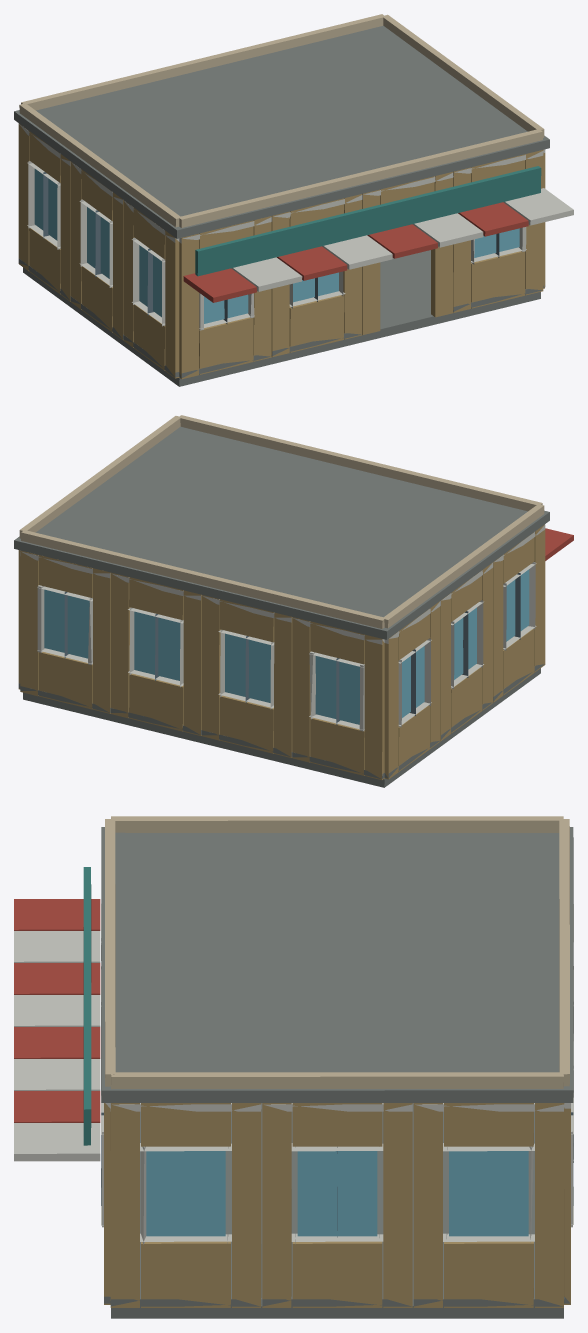
Rendered from architecture-shop.lod2.glb.
3 views of the same model, one above another, from view 1: azimuth 30°, elevation 25°; view 2: azimuth 150°, elevation 25°; view 3: azimuth 270°, elevation 25° (orthographic). The views are drawn at different scales.
Visible parts, largest first — view 1: architecture-shop__body; view 2: architecture-shop__body; view 3: architecture-shop__body.
Boxes of the visible parts, x1=… form: architecture-shop__body: x1=14, y1=14, x2=573, y2=386; architecture-shop__body: x1=14, y1=415, x2=573, y2=787; architecture-shop__body: x1=14, y1=816, x2=573, y2=1318.
Size of the model in its own units: 8.25 by 3.56 by 7.39.
